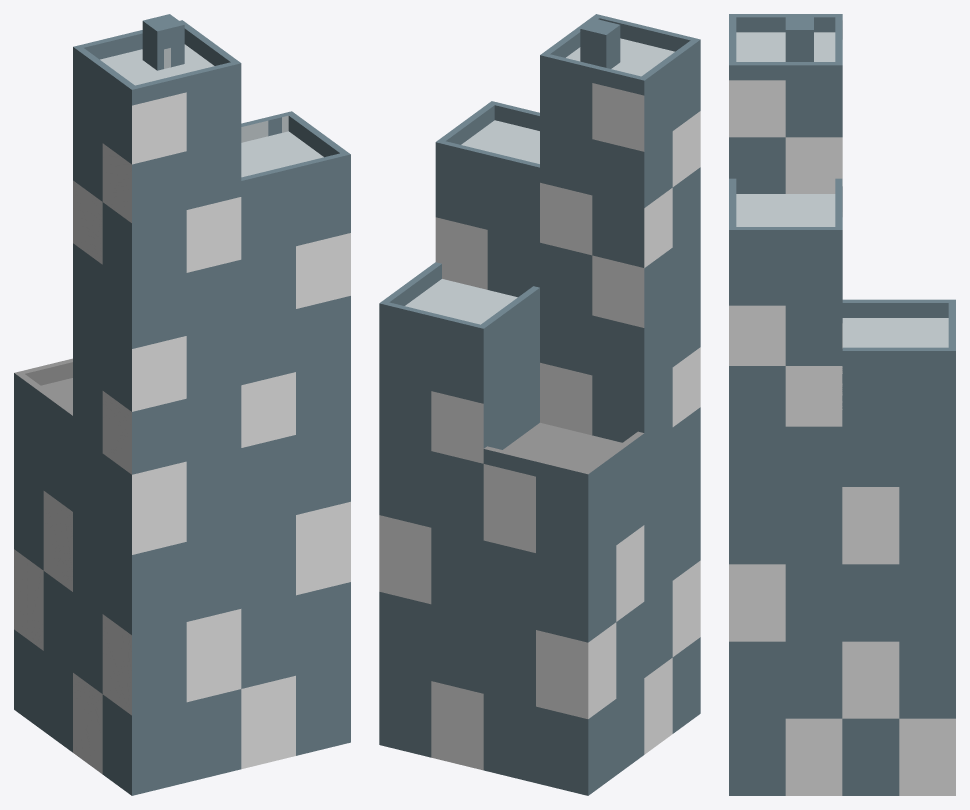
3 renders of one model, left to right at view 1: azimuth 30°, elevation 25°; view 2: azimuth 150°, elevation 25°; view 3: azimuth 270°, elevation 25°, orthographic. The views are drawn at different scales.
Visible parts, largest first — view 1: mesh_1959511441; view 2: mesh_1959511441; view 3: mesh_1959511441.
Boxes of the visible parts, bbox=[...] form: mesh_1959511441: bbox=[14, 14, 350, 795]; mesh_1959511441: bbox=[379, 14, 700, 795]; mesh_1959511441: bbox=[729, 14, 955, 795].
Bounding box in the file's own units: 29.16 × 92.88 × 27.19.
